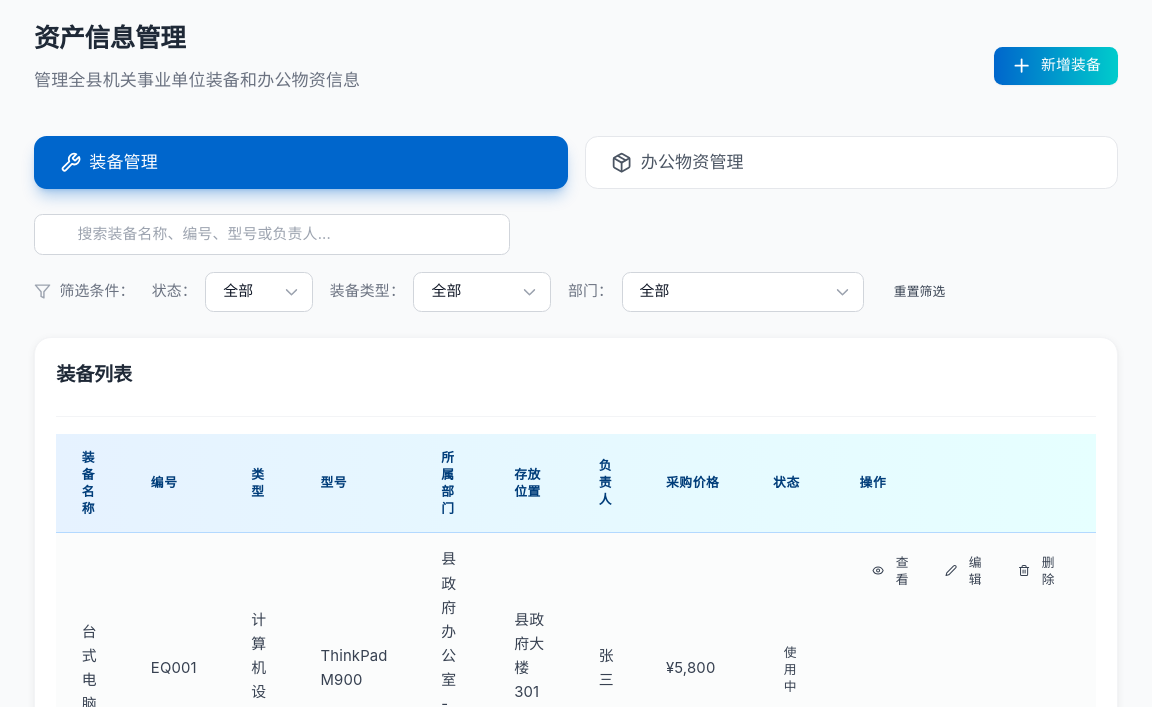
AssetManagement Page › filters equipment by type (category)
Select "计算机设备" in the dropdown next to "装备类型" at (482, 292), box [413,272,551,312]
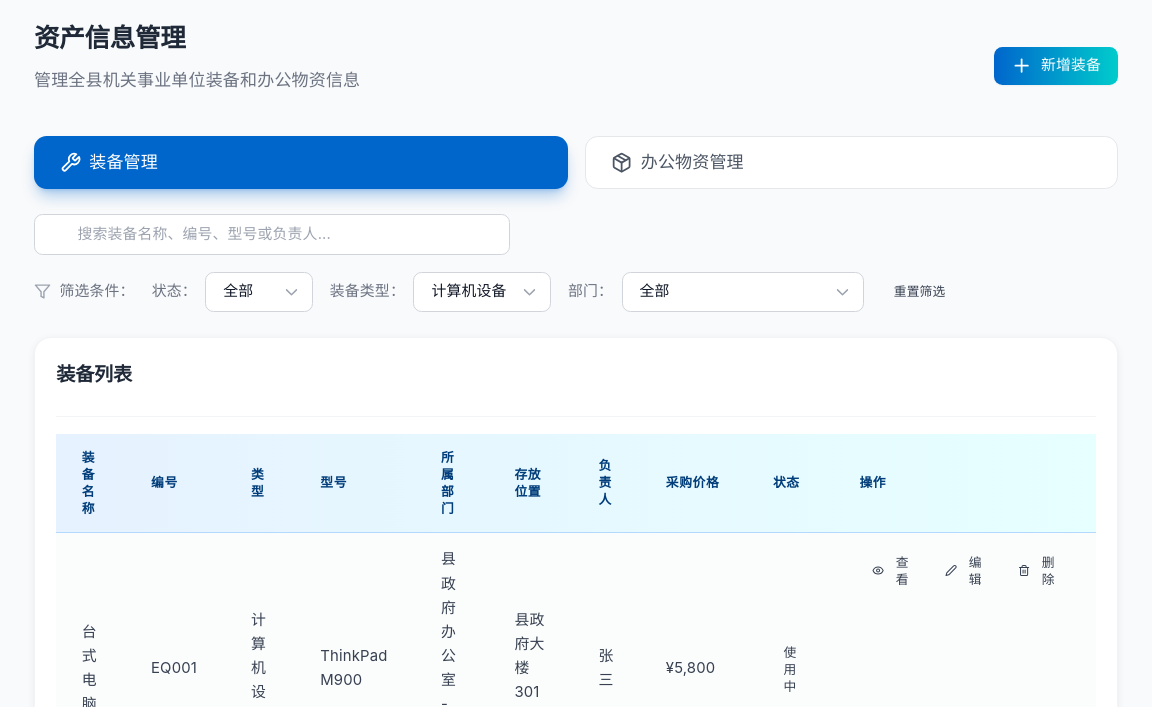
Select "全部" in the dropdown next to "装备类型" at (482, 292), box [413,272,551,312]
(page scrolled)
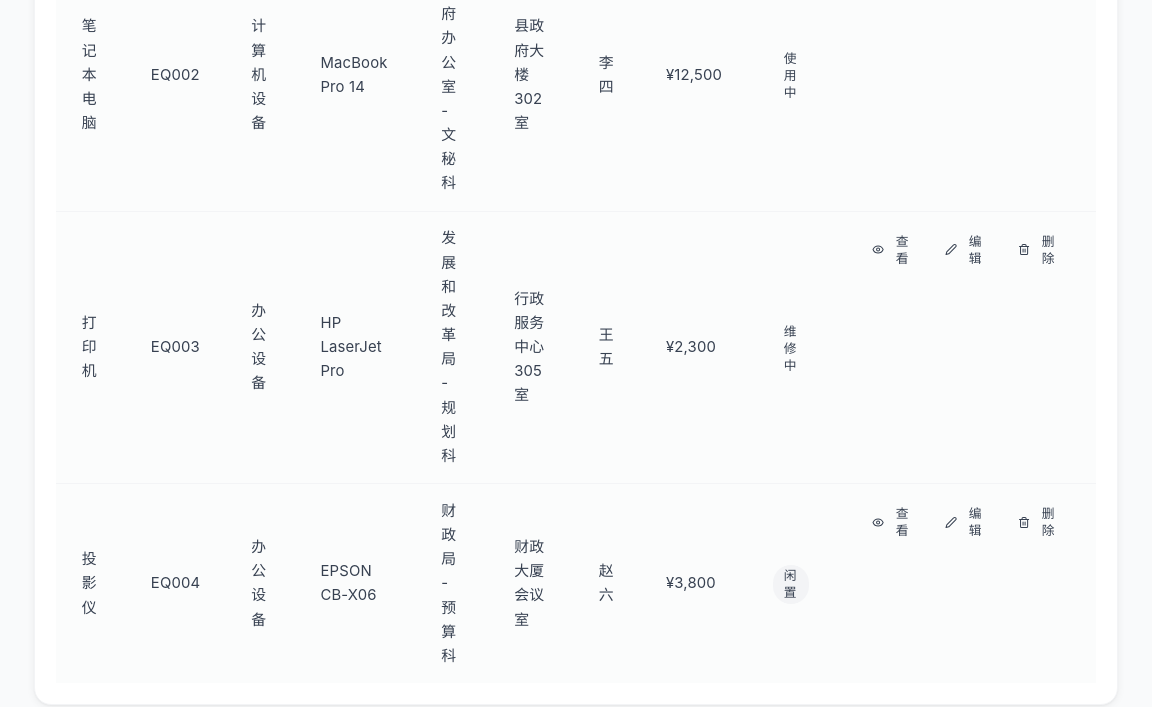
Expected: the text "打印机" is shown, [56,211,125,484]
